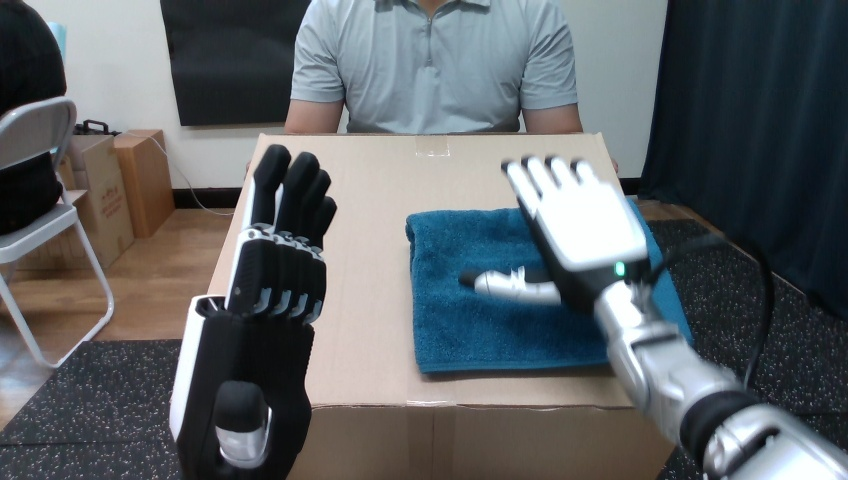left robot hand: (473, 155, 847, 479), (170, 144, 335, 478)
